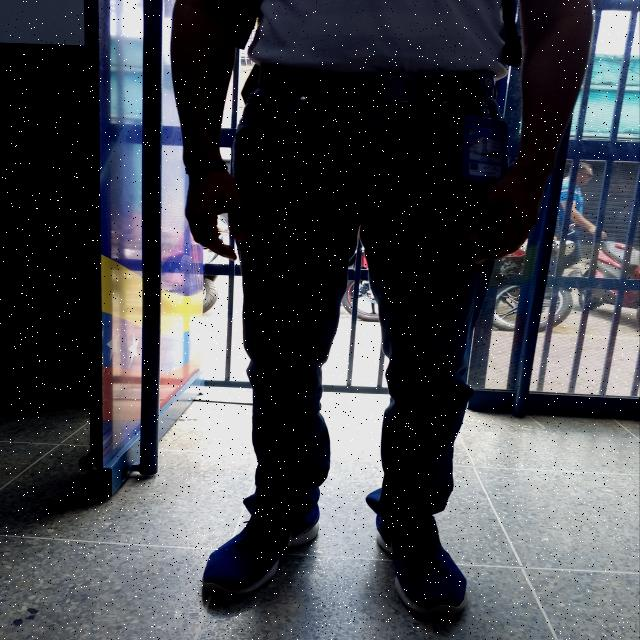carnet: (468, 124, 503, 175)
pantalon_oscuro: (233, 88, 503, 522)
